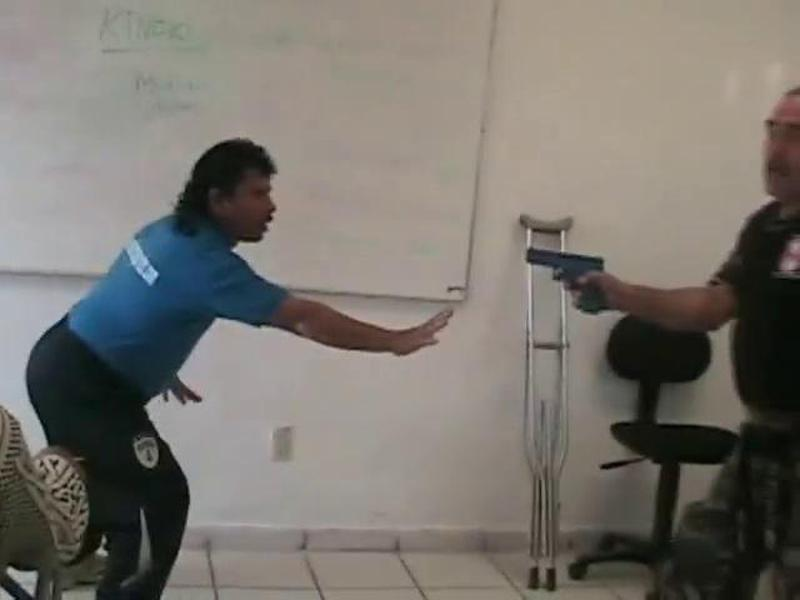Pistola: (514, 227, 637, 339)
